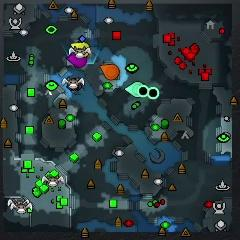p2: (124, 82, 143, 98)
p2Clone: (148, 87, 159, 99), (138, 85, 148, 97)
p3: (67, 54, 88, 68)
p4: (70, 43, 91, 57)
p5: (99, 64, 120, 80)
